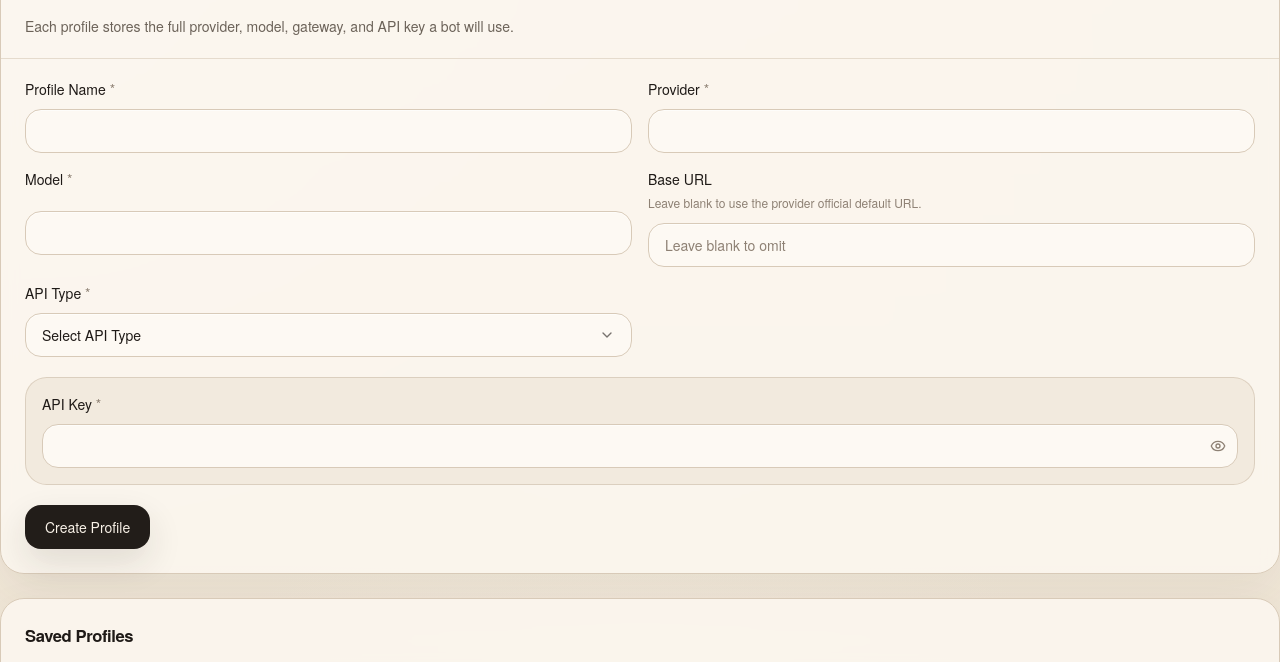
creates a new profile and prepends it to the list
Type "Secondary" into the field labelled "Profile Name". click: [328, 131]
box: [25,109,632,153]
Type "openai" into the field labelled "Provider". click: [952, 131]
box: [648,109,1255,153]
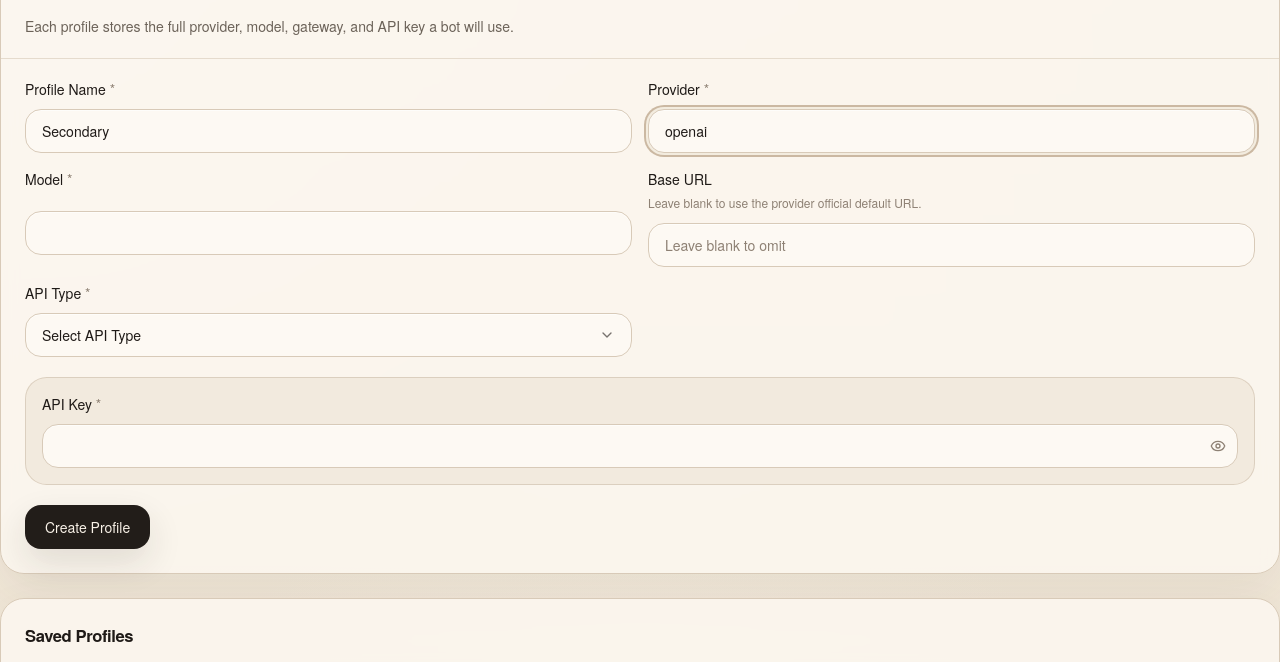
Type "gpt-5.4" into the field labelled "Model". click: [328, 233]
box: [25,211,632,255]
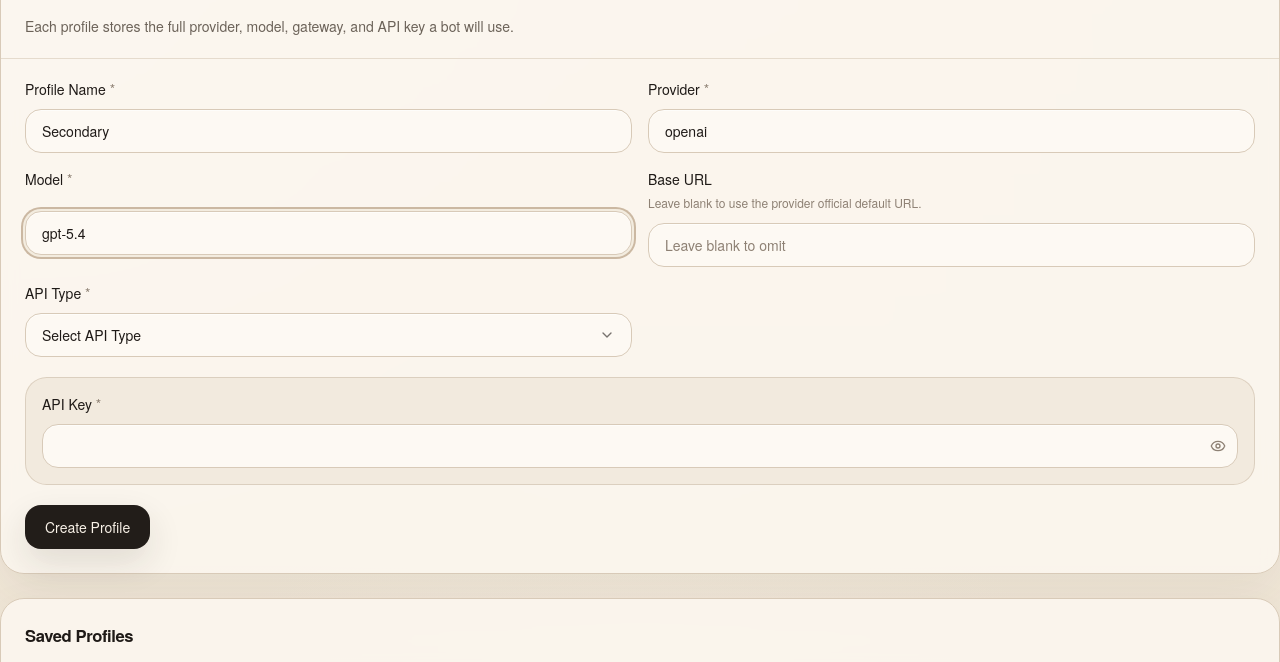
Click the dropdown labelled "API Type". click: [91, 335]
box: [25,313,632,357]
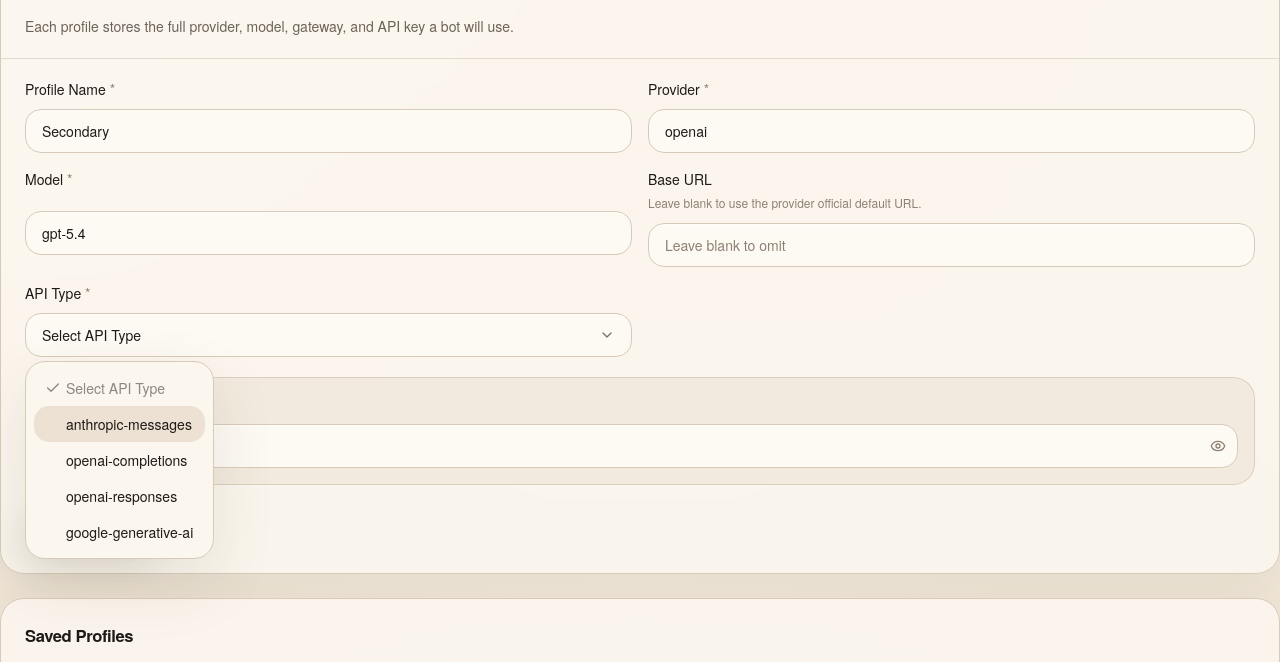
Click the option "openai-completions". click: [127, 460]
box: [66,450,187,470]
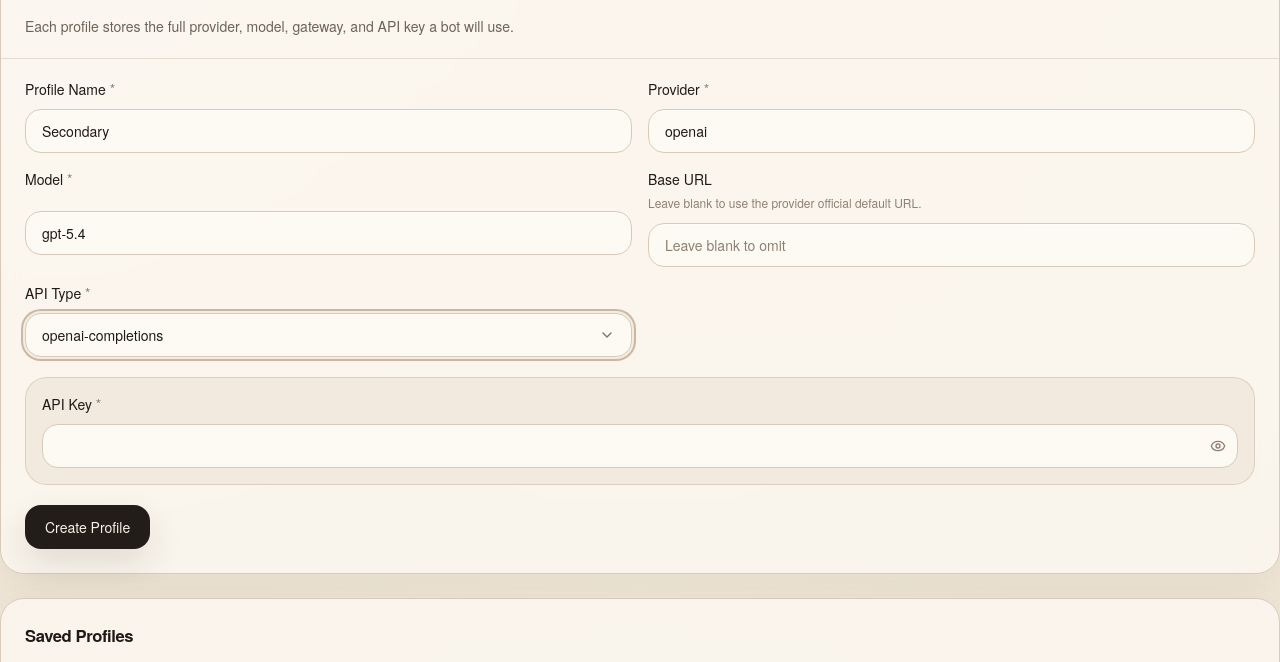
Type "sk-user-2" into the password field labelled "API Key". click: [640, 446]
box: [42,424,1238,468]
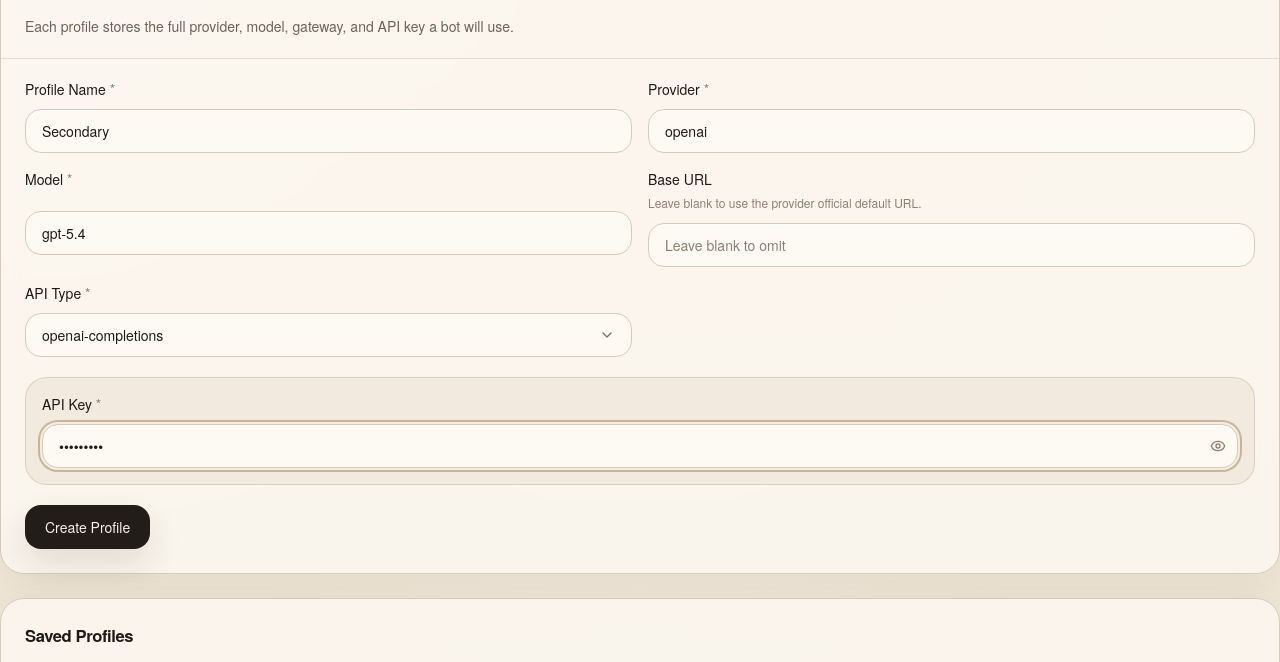
Click the button "Create Profile". click: [88, 527]
box: [25,505,150,549]
(page scrolled)
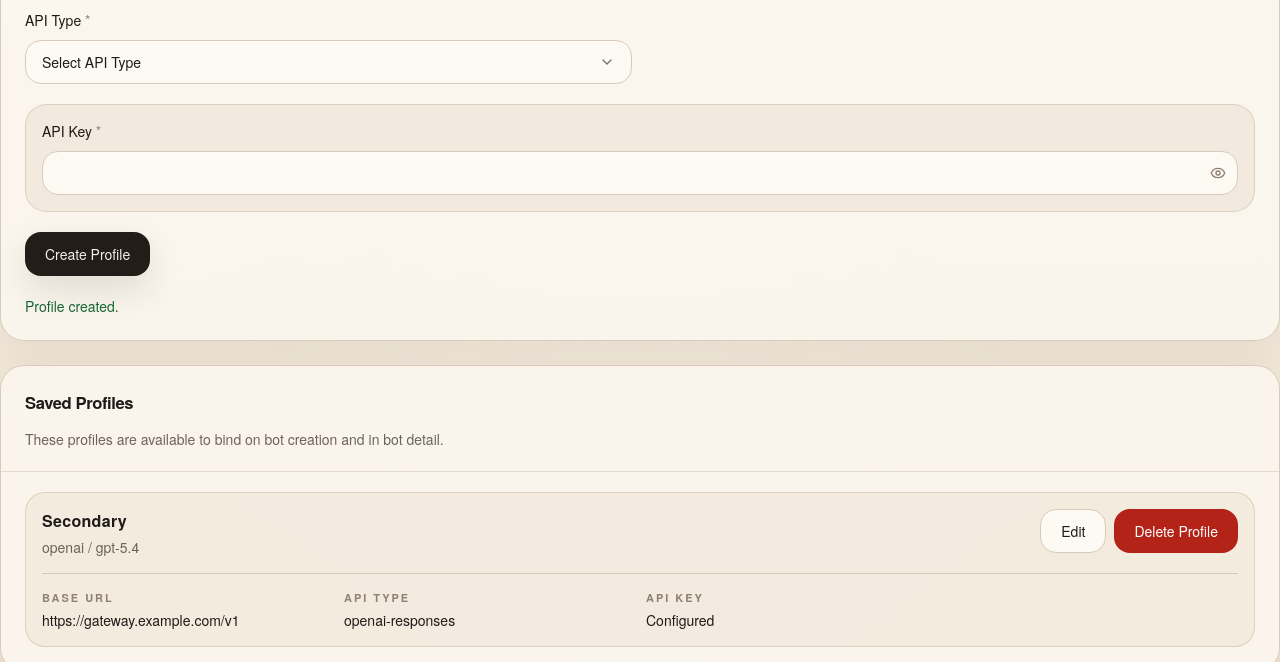
Now the text "Secondary" is shown, box [42,509,139,533]
